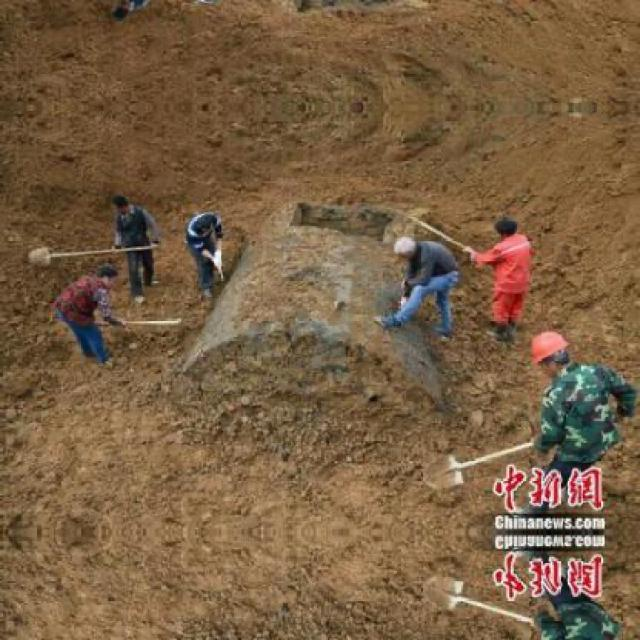helmet: (529, 330, 569, 376)
